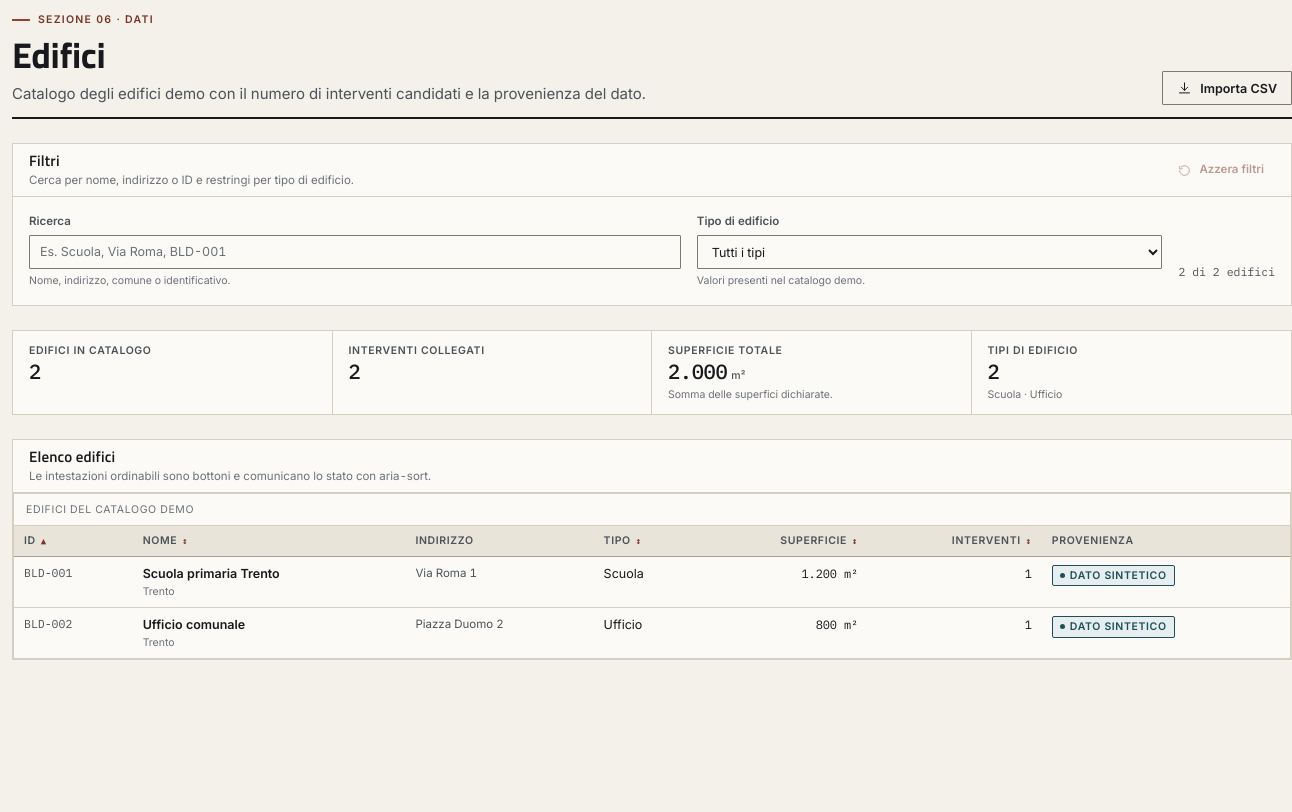
BuildingsPage › filtra per ricerca e per tipo e azzera i filtri
Expected: the text "Scuola primaria Trento" is shown, [143,566,280,581]
Type "ufficio" into the search field labelled "Ricerca" at (355, 252), box [29,235,681,269]
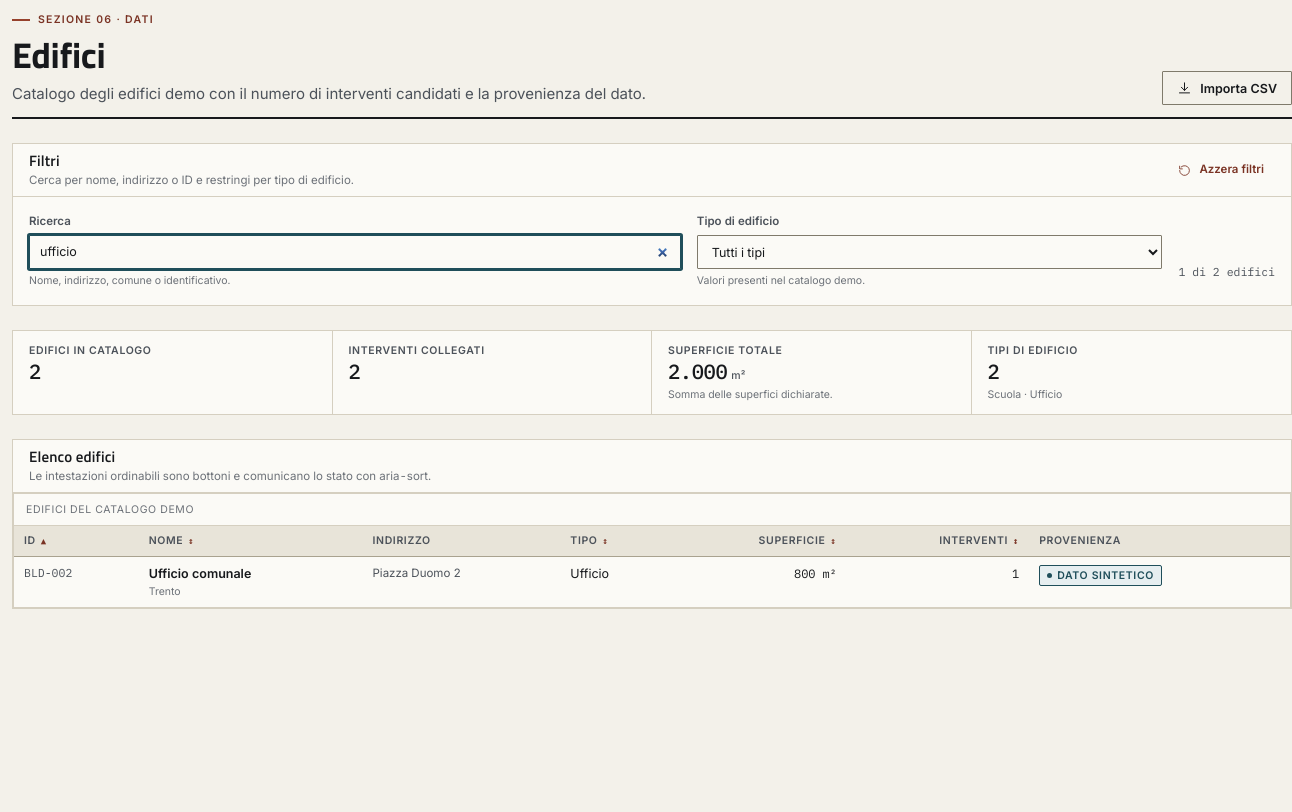
Expected: the text "Ufficio comunale" is shown, [149,566,251,581]
Expected: the text "Scuola primaria Trento" is gone
Click the button "Azzera filtri" at (1221, 170), box [1167,156,1275,184]
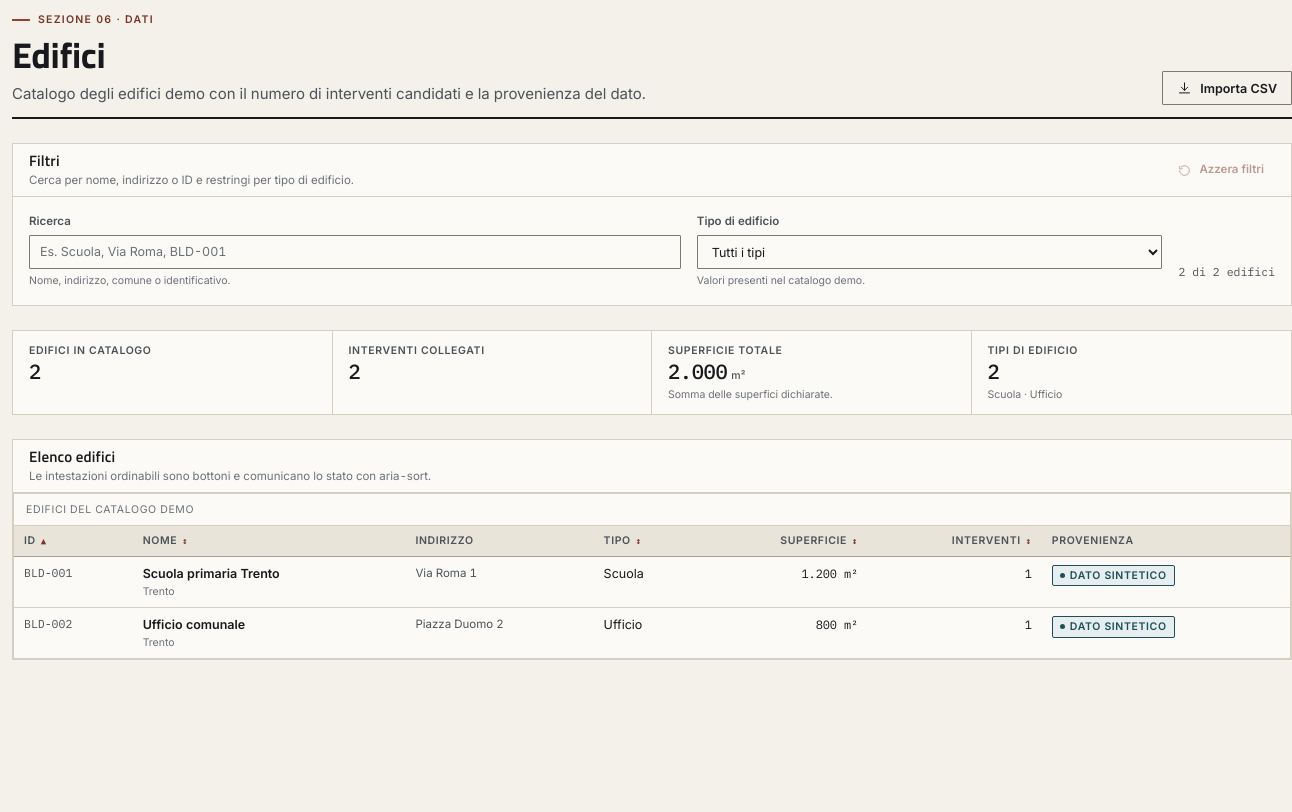
Expected: the text "Scuola primaria Trento" is shown, [143,566,280,581]
Select "Ufficio" in the dropdown labelled "Tipo di edificio" at (930, 252), box [697,235,1162,269]
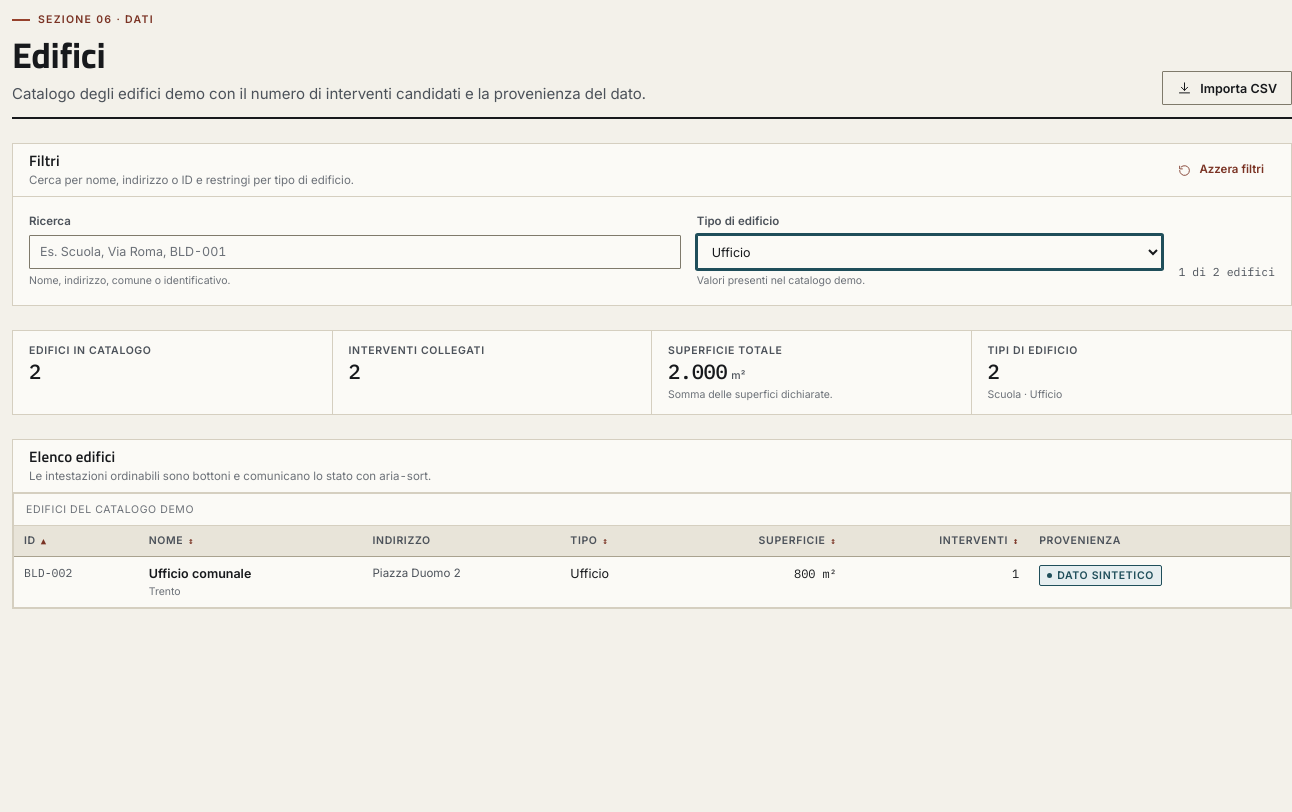
Expected: the text "Ufficio comunale" is shown, [149,566,251,581]
Expected: the text "Scuola primaria Trento" is gone
Select "Scuola" in the dropdown labelled "Tipo di edificio" at (930, 252), box [697,235,1162,269]
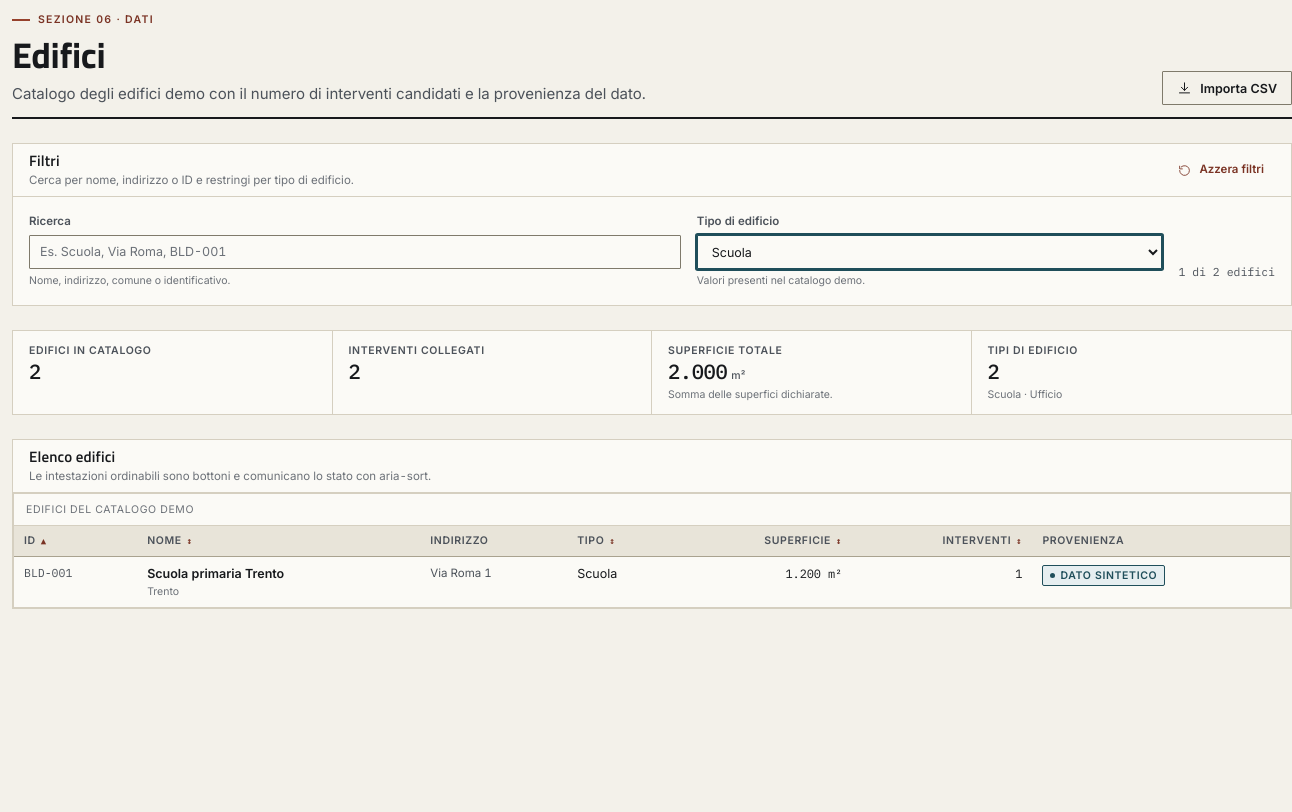
Expected: the text "Scuola primaria Trento" is shown, [147,566,284,581]
Expected: the text "Ufficio comunale" is gone
